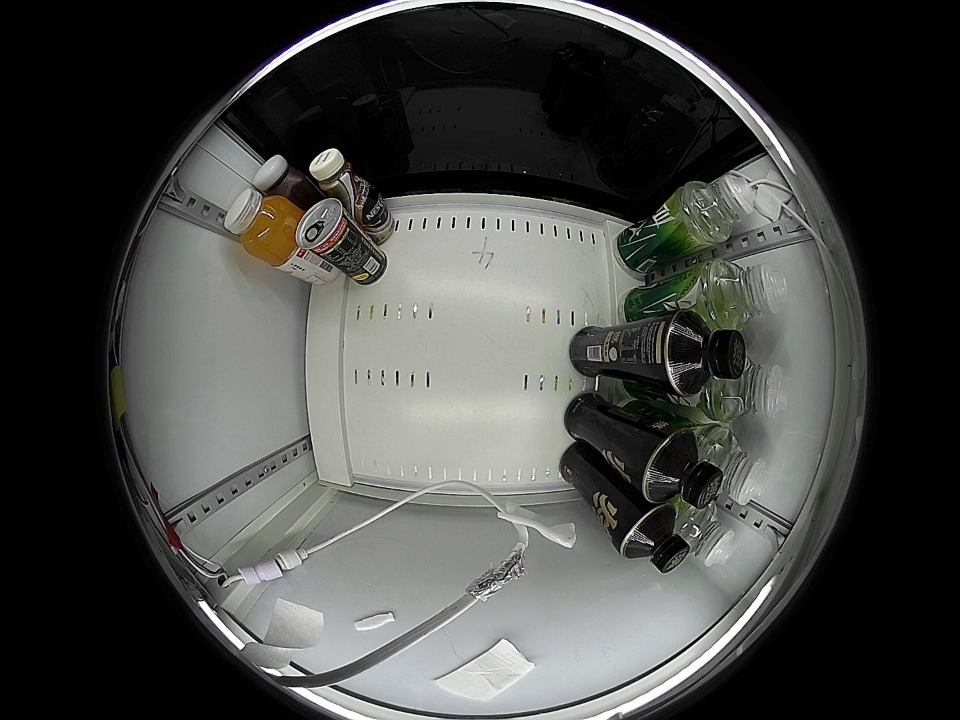jianjiao: (704, 259, 787, 329), (710, 353, 788, 422), (702, 426, 769, 506), (684, 173, 756, 246), (677, 502, 738, 567)
kafei: (308, 149, 373, 207)
rancha-1: (660, 311, 748, 402), (641, 424, 726, 509), (619, 504, 689, 574)
weic: (224, 189, 300, 265)
yezhi: (296, 198, 356, 258)
youyanggudong: (252, 155, 308, 201)
